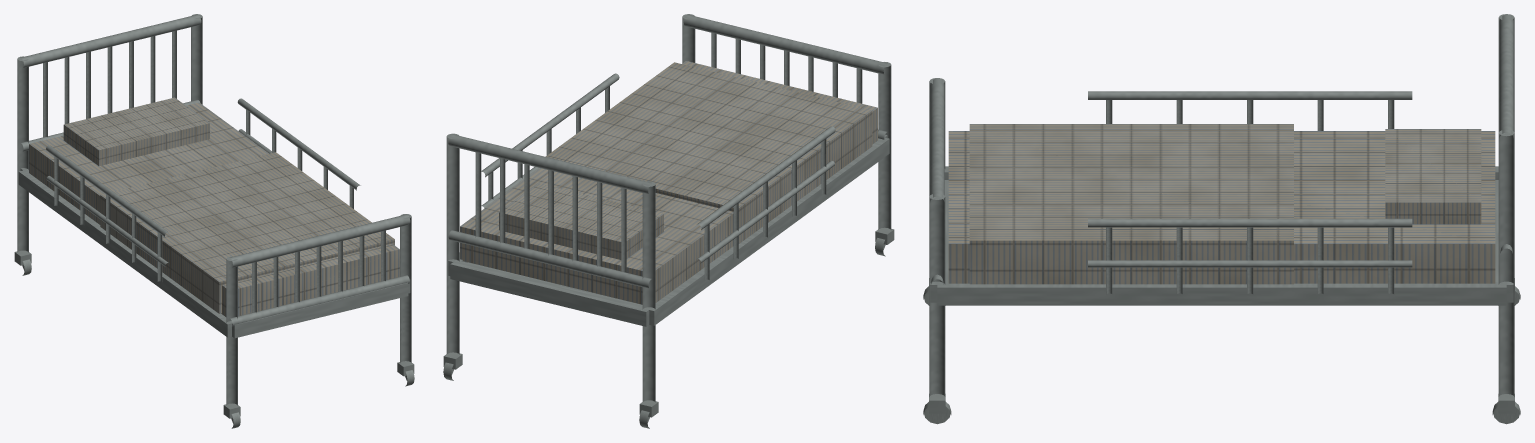
File: hospital-bed.glb
3 views of the same model, side by side, from view 1: azimuth 30°, elevation 25°; view 2: azimuth 150°, elevation 25°; view 3: azimuth 270°, elevation 25° (orthographic). The views are drawn at different scales.
Visible parts, largest first — view 1: hospital-bed; view 2: hospital-bed; view 3: hospital-bed.
Part boxes in pixels (x1,y1,x2,y2): hospital-bed: [14, 14, 414, 428]; hospital-bed: [443, 14, 894, 428]; hospital-bed: [923, 14, 1520, 424].
Size of the model in its own units: 1.1 by 1.16 by 2.12.
Materials: 2 (2 with a texture image).
